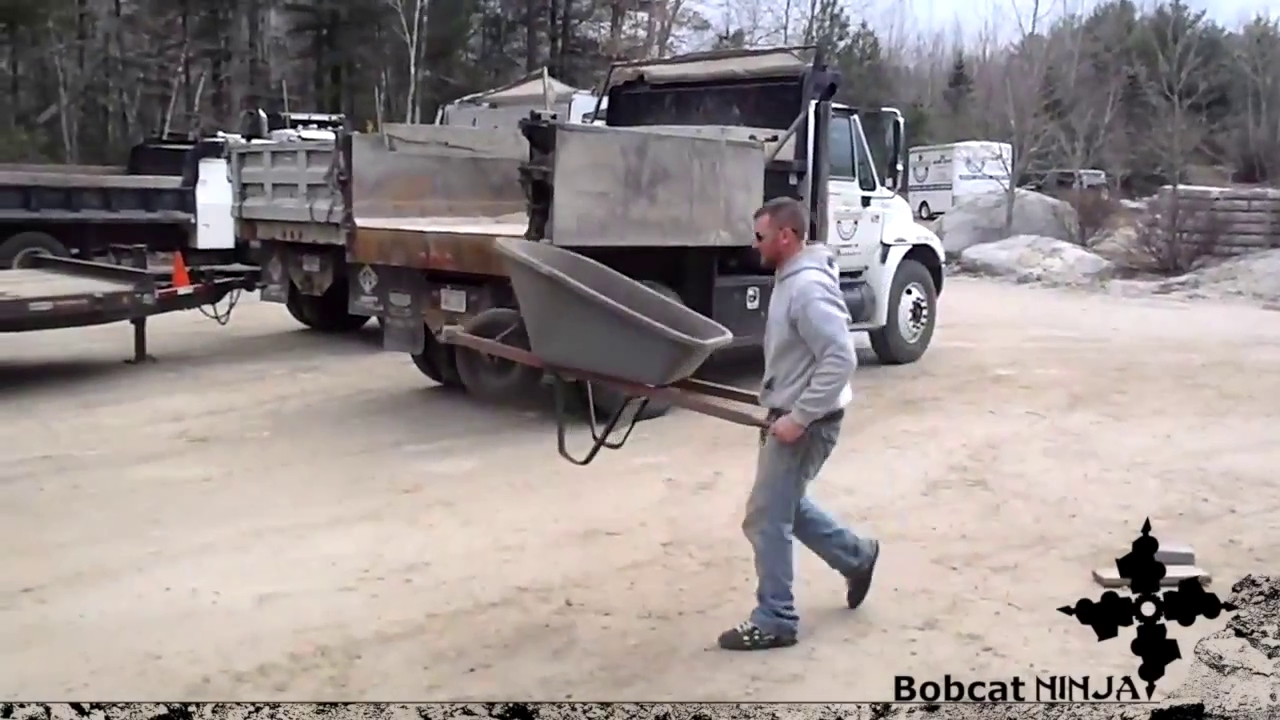person: (719, 196, 881, 651)
